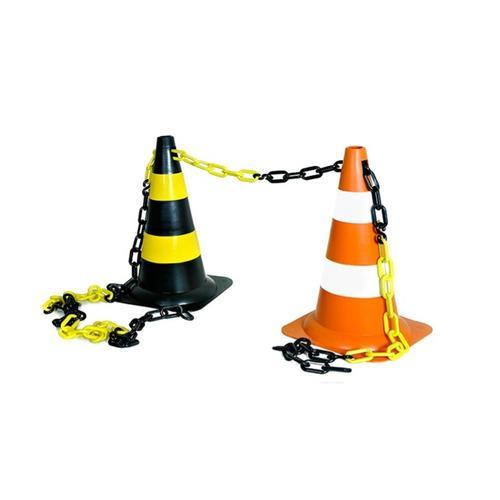traffic cone: (280, 145, 433, 363), (109, 135, 219, 312)
